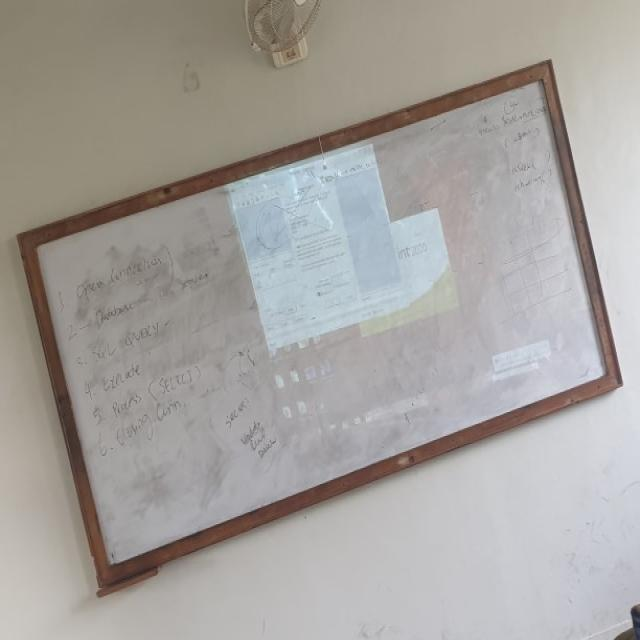Slide: (224, 77, 581, 463)
White-board: (27, 69, 618, 579)
